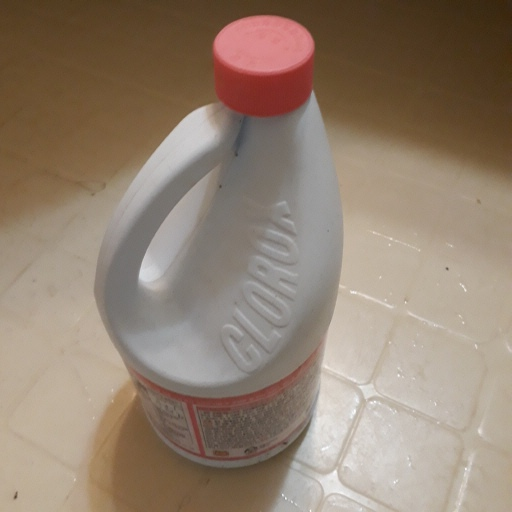Plastic_1: (95, 17, 345, 464)
